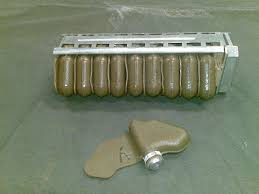butterfly: (82, 115, 197, 179)
